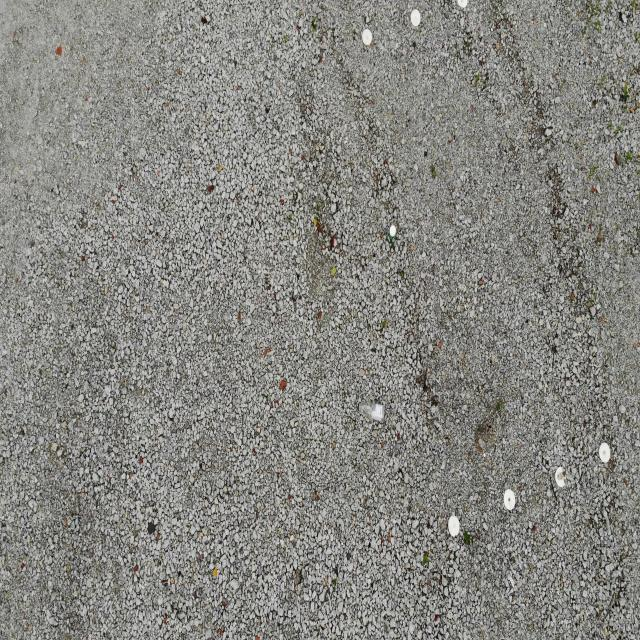rubbish: (358, 402, 386, 424), (387, 225, 396, 244)
